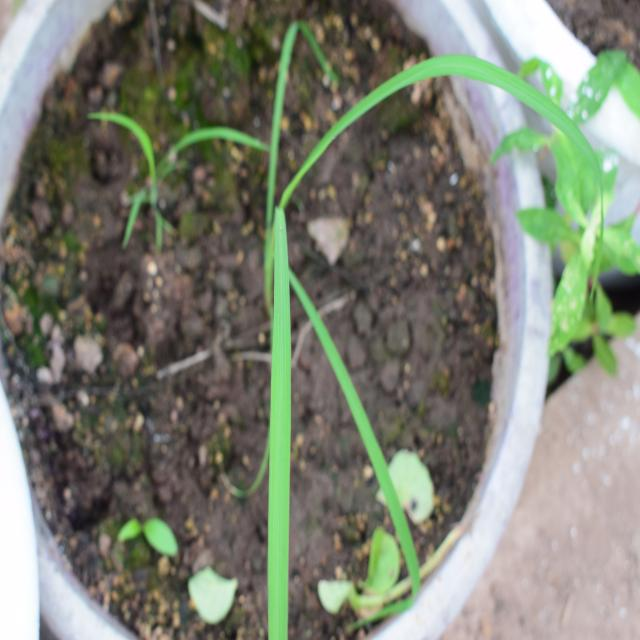barnyard_grass: (202, 24, 446, 610)
